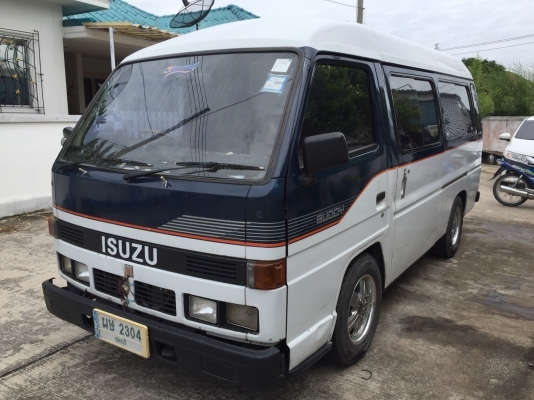van: (43, 14, 484, 394)
